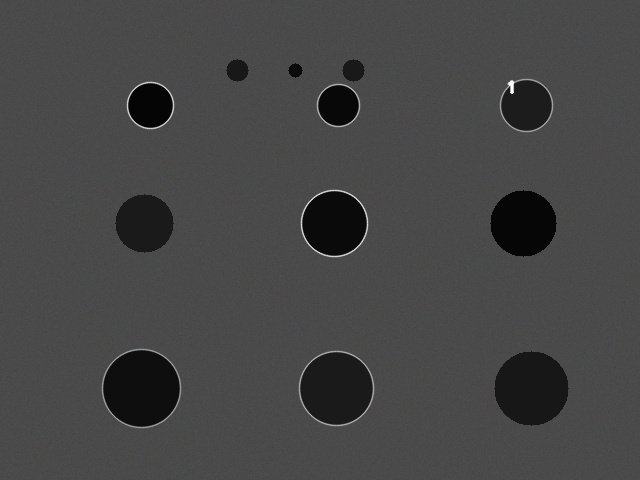hole: (102, 349, 180, 427), (299, 351, 373, 425), (494, 351, 568, 425), (301, 190, 367, 256), (490, 190, 556, 256), (115, 194, 173, 252), (500, 79, 552, 131), (127, 82, 173, 128), (317, 84, 359, 126), (226, 59, 248, 81), (342, 59, 364, 81), (288, 63, 302, 77)
